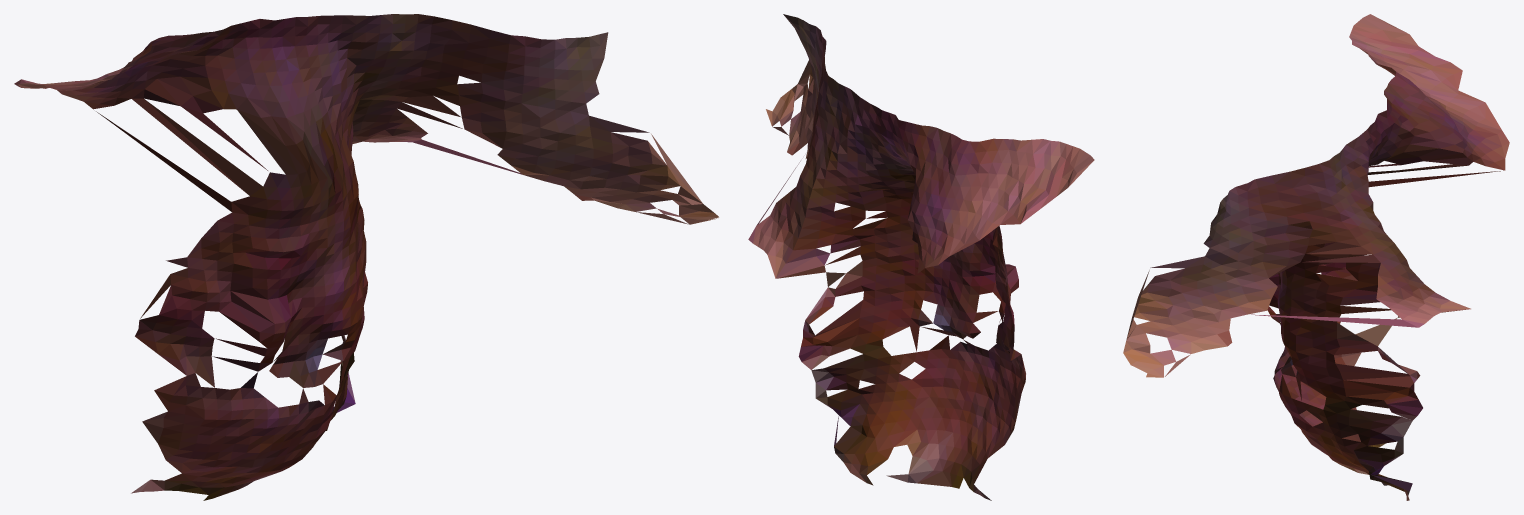
3 renders of one model, left to right at view 1: azimuth 30°, elevation 25°; view 2: azimuth 150°, elevation 25°; view 3: azimuth 270°, elevation 25°, orthographic. The views are drawn at different scales.
Parts seen in each view (by area): view 1: ofMesh; view 2: ofMesh; view 3: ofMesh.
Part boxes in pixels (box(x1,y1,x2,y2)): ofMesh: box(14, 14, 718, 500); ofMesh: box(748, 14, 1094, 500); ofMesh: box(1123, 14, 1509, 500).
Bounding box in the file's own units: 348 × 276 × 255.
1 material, 1 textured.
